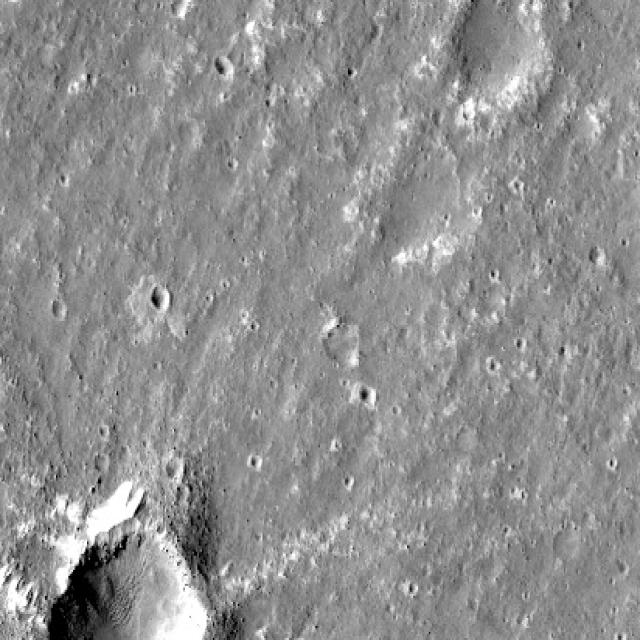Crater: (25, 497, 227, 640)
